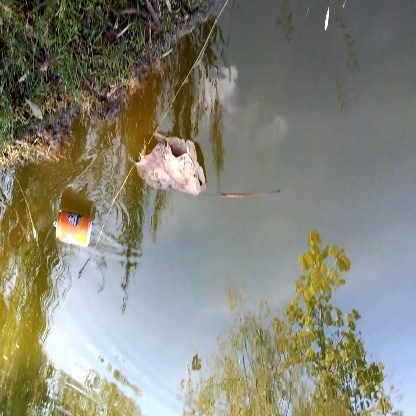leaf: (130, 128, 285, 202)
